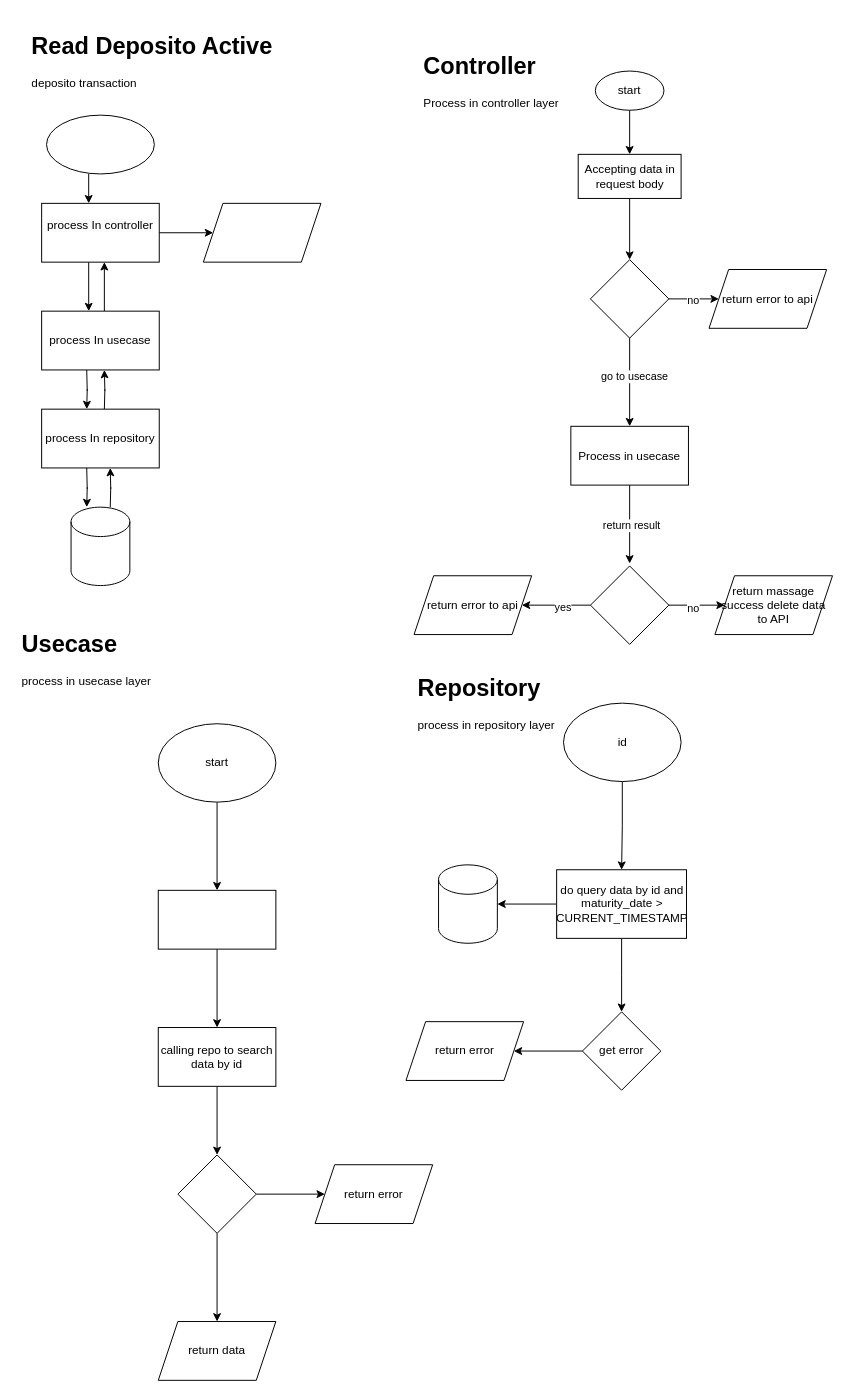
This 850x1397 diagram has some shape labels left out. Here are the shapes that lost their labels. From the top down, the centre of each, then its label:
At (x=100, y=144): "hit endpoint with data".
At (x=261, y=232): "return api".
At (x=629, y=298): "success accept data".
At (x=100, y=546): "update in database".
At (x=629, y=604): "get error resutl?".
At (x=216, y=919): "IdUser = GetId()".
At (x=467, y=903): "table deposite".
At (x=216, y=1193): "get error?".
